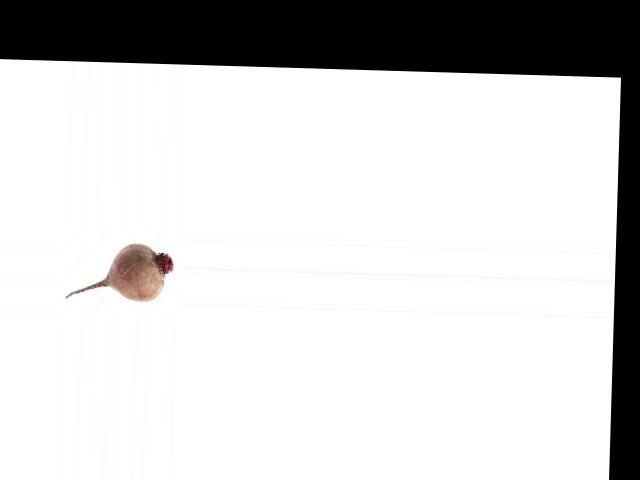beet: (65, 240, 173, 302)
